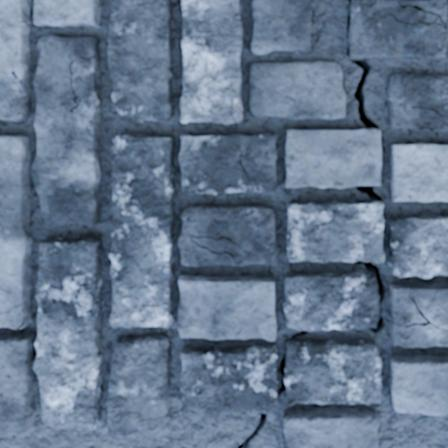brick: (0, 238, 102, 435), (32, 35, 101, 224), (110, 135, 175, 327), (108, 0, 173, 122), (180, 0, 242, 123), (180, 346, 279, 413), (107, 334, 170, 436), (285, 339, 381, 405), (178, 275, 275, 340), (178, 203, 276, 265), (287, 200, 384, 262), (0, 135, 31, 328), (179, 132, 277, 193), (348, 0, 447, 59), (284, 270, 380, 330), (249, 61, 345, 118), (286, 129, 380, 187), (388, 282, 447, 346), (283, 408, 378, 447), (388, 215, 447, 277), (0, 0, 30, 120), (388, 72, 447, 131), (390, 356, 447, 414), (251, 0, 311, 54), (391, 143, 447, 200), (34, 0, 100, 27)
crack: (347, 46, 378, 129), (388, 1, 447, 29), (354, 259, 385, 302), (236, 412, 267, 447), (355, 185, 382, 202), (278, 353, 286, 394), (368, 315, 385, 333), (290, 329, 308, 339), (346, 12, 350, 35), (419, 126, 433, 132), (16, 322, 24, 329), (381, 212, 385, 218), (380, 135, 382, 144), (356, 329, 362, 331)
